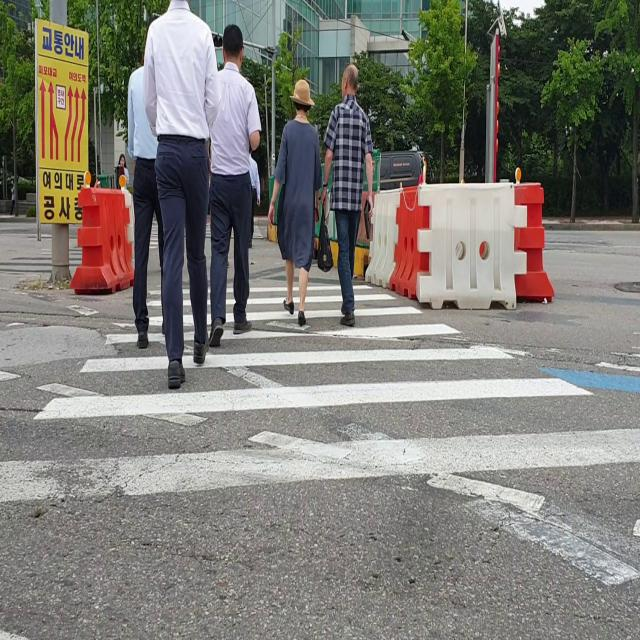횡단보도: (0, 279, 640, 510)
